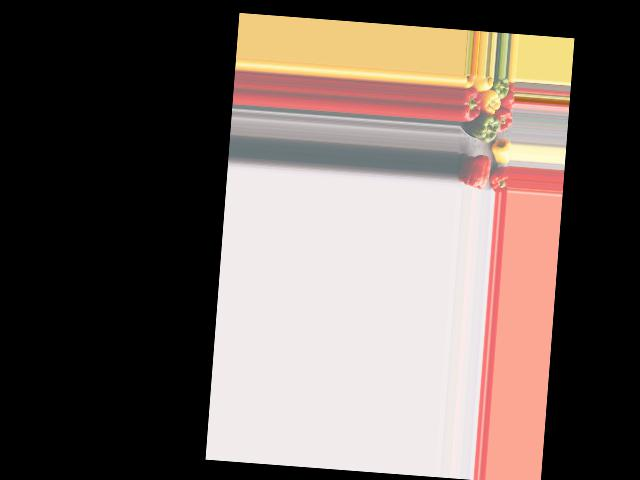bell_pepper: (489, 165, 507, 193)
